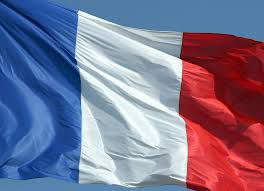French Flag: (1, 1, 261, 189)
